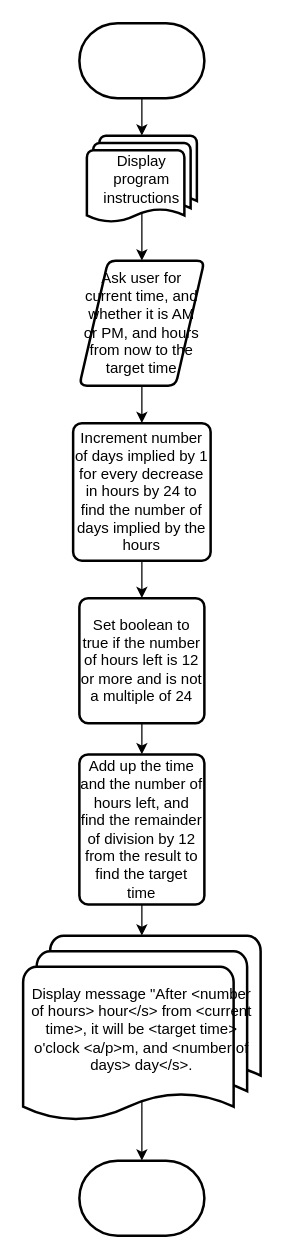
Some shapes in this 283 by 1258 pixel diagram are drawn without their labels. Here are the shapes that lost their labels. From the top down, the centre of each, then its label:
(x=141, y=60): Start
(x=141, y=1197): End
